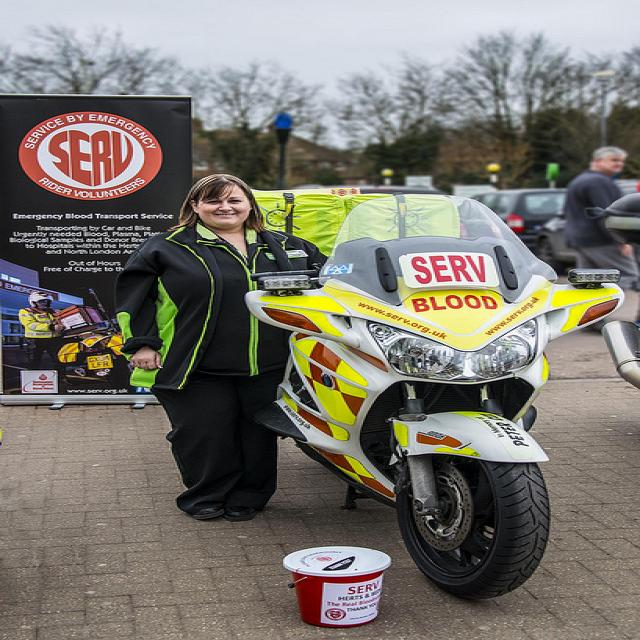motor: (244, 195, 628, 602), (588, 194, 640, 391)
